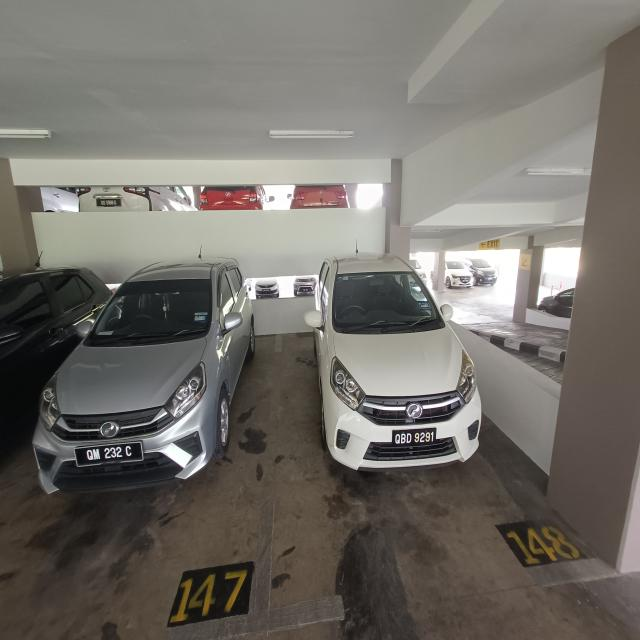PeroduaAxia: (303, 247, 482, 473)
